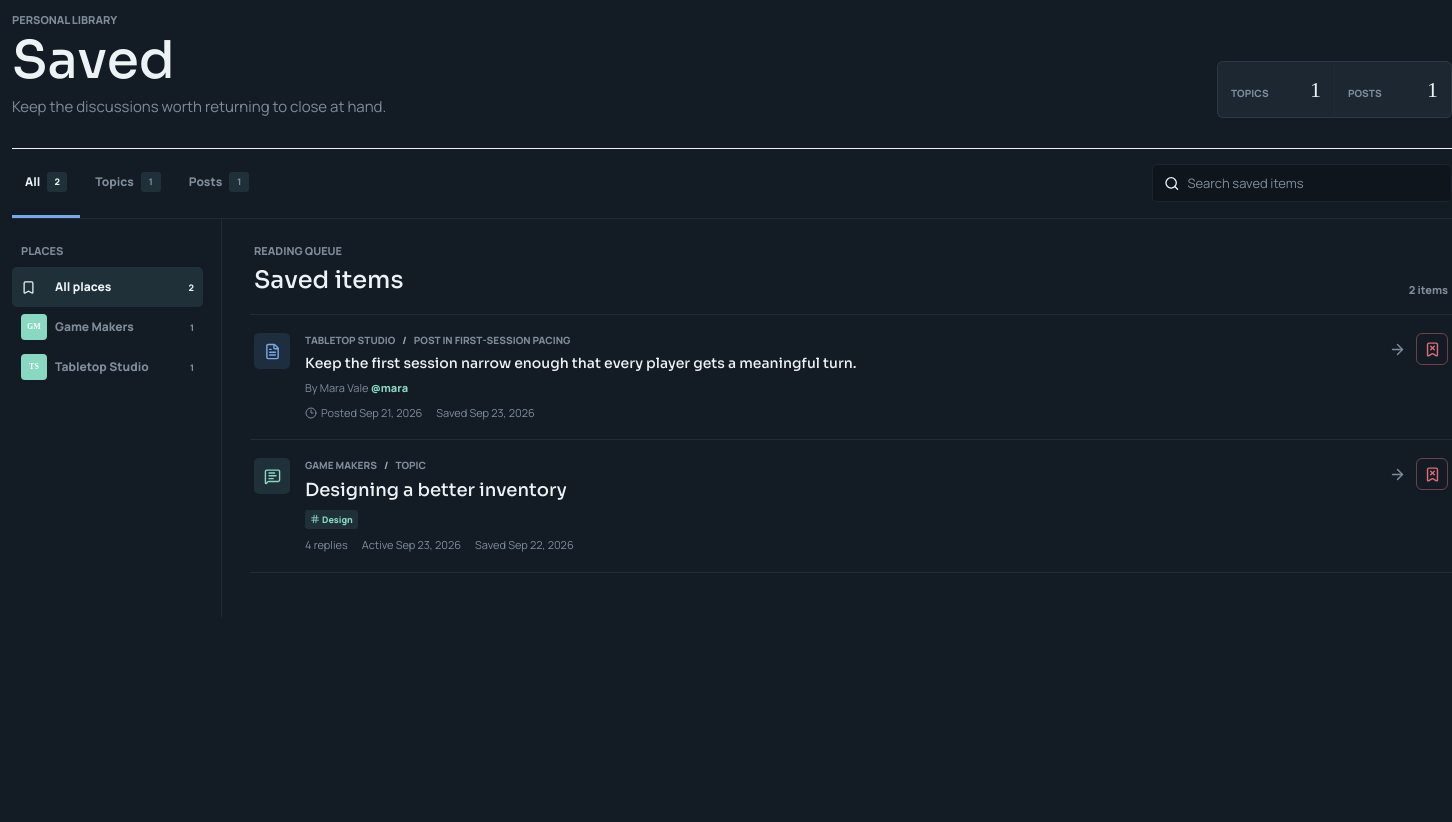
it: SavedLibrary › removes a saved topic from the API and queue
This screenshot has width=1452, height=822.
expect the heading "Designing a better inventory" is shown: met, box 305,479 -> 567,501
Click the button named "Remove saved topic" at (1432, 474), box 1416,458 -> 1448,490
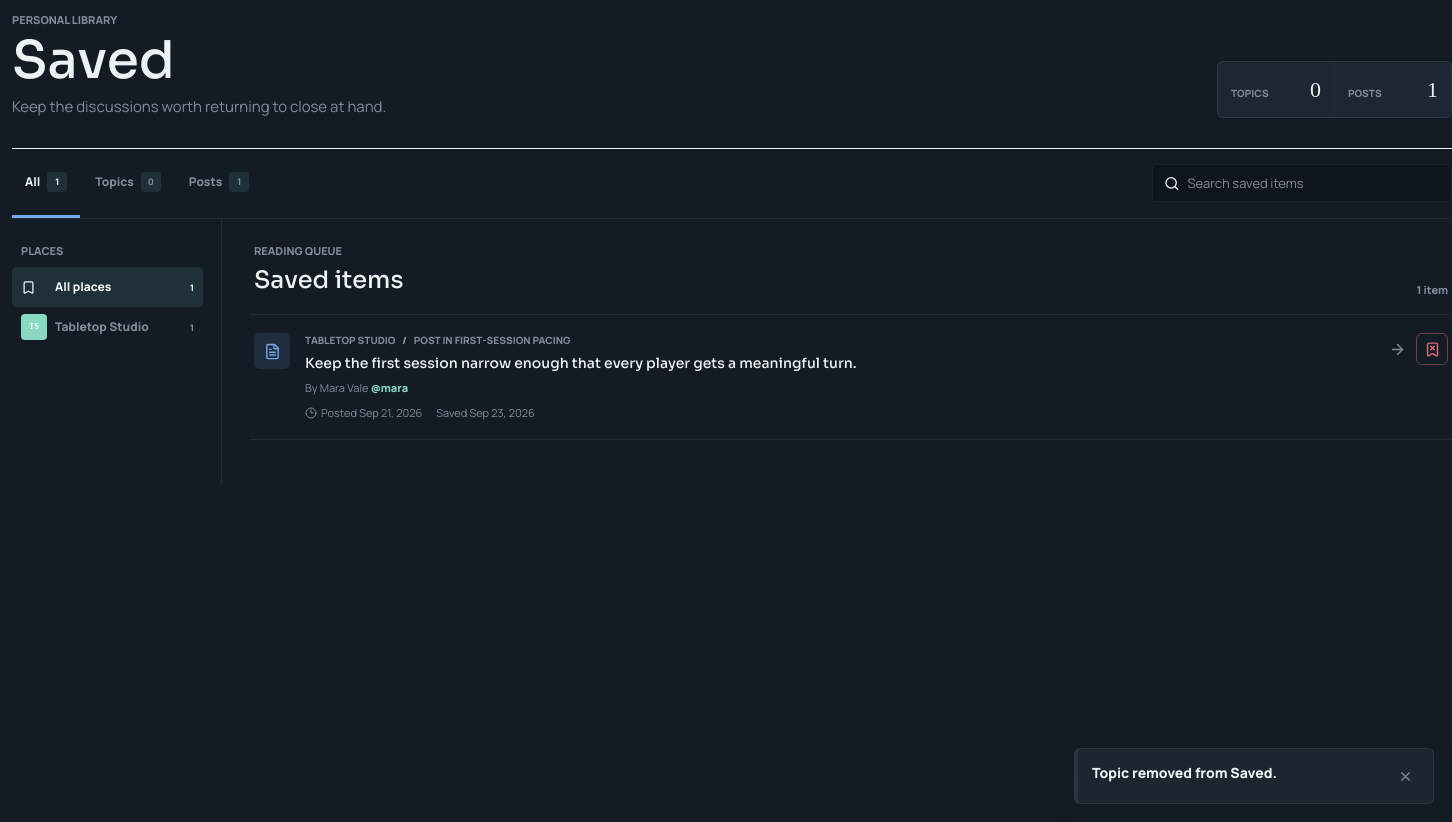
expect the link "Designing a better inventory" is gone: met
expect the text "Topic removed from Saved." is shown: met, box 1092,762 -> 1277,783
